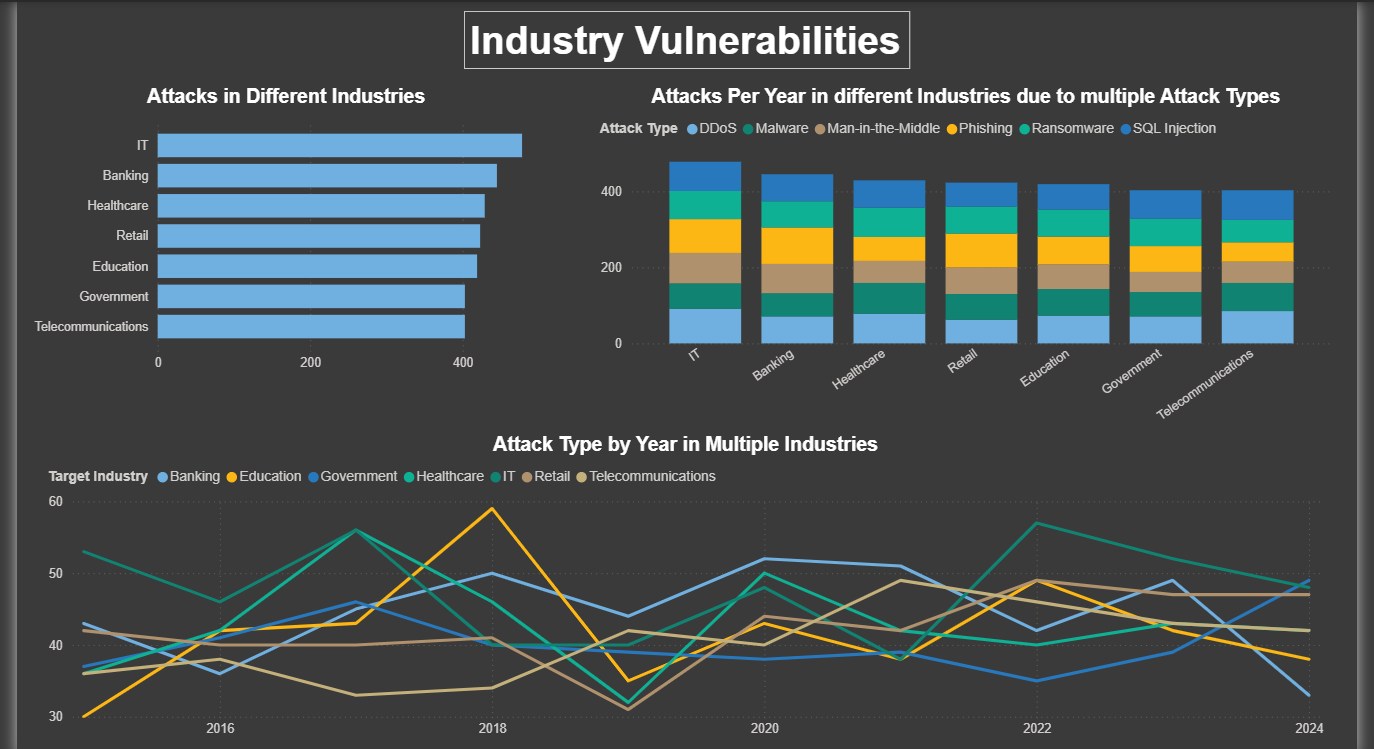

This screenshot's page, from the dashboard's own definition file:
{"tool":"powerbi","page":{"name":"Target Industries","canvas":[1280,720],"ordinal":1},"visuals":[{"type":"clusteredBarChart","title":"Attacks in Different Industries","fields":{"Category":["Global_Cybersecurity_Threats_2015-2024.Target Industry"],"Y":["Global_Cybersecurity_Threats_2015-2024.Attacks_Per_Year"]},"box":[0,79.7,514,279.8],"z":0},{"type":"columnChart","title":"Attacks Per Year in different Industries due to multiple Attack Types","fields":{"Category":["Global_Cybersecurity_Threats_2015-2024.Target Industry"],"Y":["Global_Cybersecurity_Threats_2015-2024.Attacks_Per_Year"],"Series":["Global_Cybersecurity_Threats_2015-2024.Attack Type"]},"box":[551.4,79.7,709.2,333.4],"z":1},{"type":"lineChart","title":"Attack Type by Year in Multiple Industries","fields":{"Category":["Global_Cybersecurity_Threats_2015-2024.Year"],"Y":["CountNonNull(Global_Cybersecurity_Threats_2015-2024.Attack Type)"],"Series":["Global_Cybersecurity_Threats_2015-2024.Target Industry"]},"box":[24.4,413.1,1228,297.7],"z":2},{"type":"textbox","box":[426.2,8.1,426.2,55.3],"z":3}]}

Visuals, with their boxes on the page's 1280x720 design canvas (x1, y1, x2, y2). These are canvas units, not pixel positions in the 1374x749 screenshot, which may show the page scaled, cropped or inside an application window:
"Attacks in Different Industries" clusteredBarChart: <region>0, 80, 514, 360</region>
"Attacks Per Year in different Industries due to multiple Attack Types" columnChart: <region>551, 80, 1261, 413</region>
"Attack Type by Year in Multiple Industries" lineChart: <region>24, 413, 1252, 711</region>
textbox: <region>426, 8, 852, 63</region>
